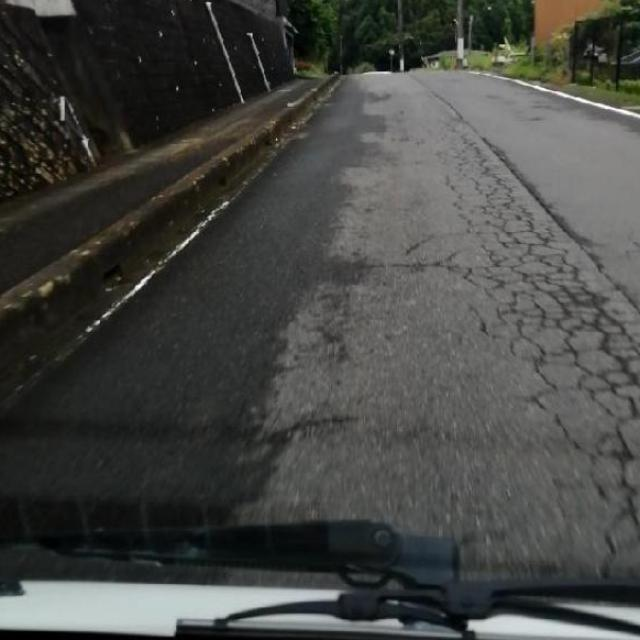Retak Buaya: (423, 141, 640, 597)
